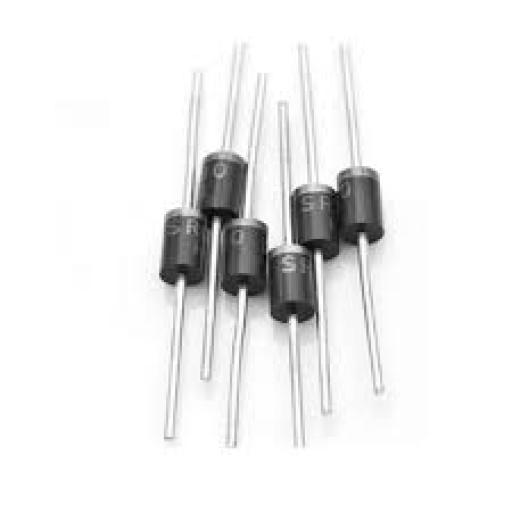DIODE: (157, 34, 387, 448), (319, 146, 399, 277), (275, 156, 360, 272), (179, 130, 252, 228), (259, 227, 323, 334), (220, 213, 287, 315), (146, 194, 206, 296)
